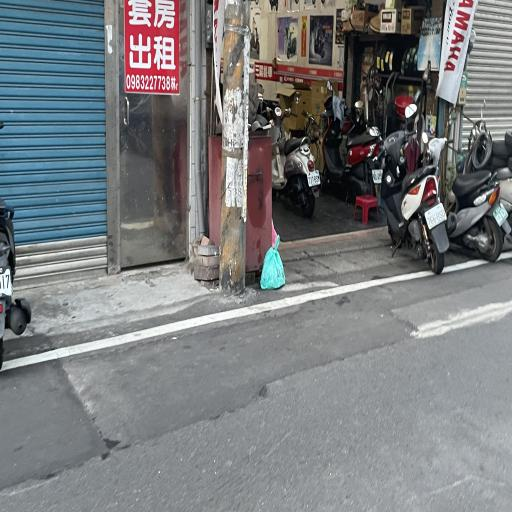car: (0, 242, 512, 372)
